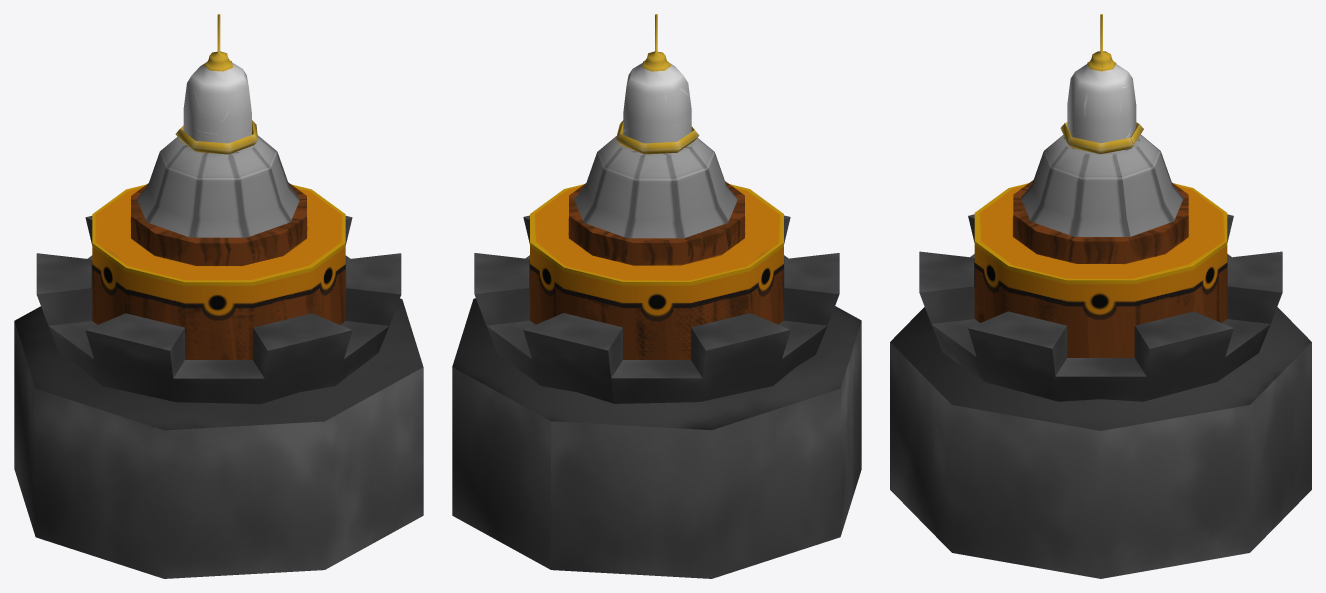
File: Lightning tower 1.fbx
The picture shows the model from 3 angles, left to right: view 1: azimuth 30°, elevation 25°; view 2: azimuth 150°, elevation 25°; view 3: azimuth 270°, elevation 25°; orthographic projection.
Parts seen in each view (by area): view 1: L_Tower_1; view 2: L_Tower_1; view 3: L_Tower_1.
Part boxes in pixels (x1,y1,x2,y2): L_Tower_1: (14,14,423,578); L_Tower_1: (452,14,861,578); L_Tower_1: (890,14,1311,578).
Size of the model in its own units: 105 by 130 by 105.
